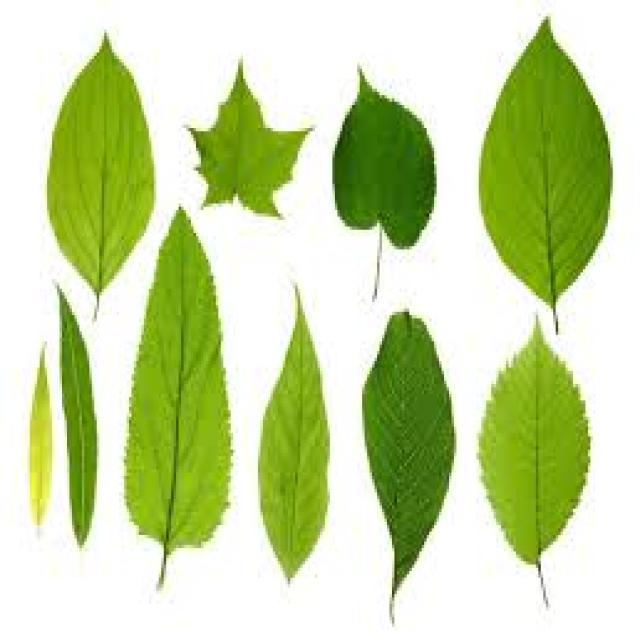leaves: (480, 20, 611, 332), (125, 208, 231, 585), (48, 36, 154, 313), (362, 313, 455, 606), (480, 324, 589, 570), (332, 73, 436, 292), (259, 291, 329, 576), (191, 65, 308, 214), (59, 291, 96, 543), (31, 359, 50, 520)
